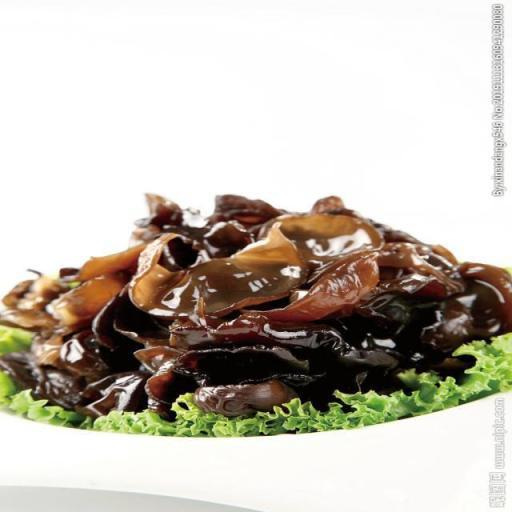mushroom: (5, 181, 512, 406)
